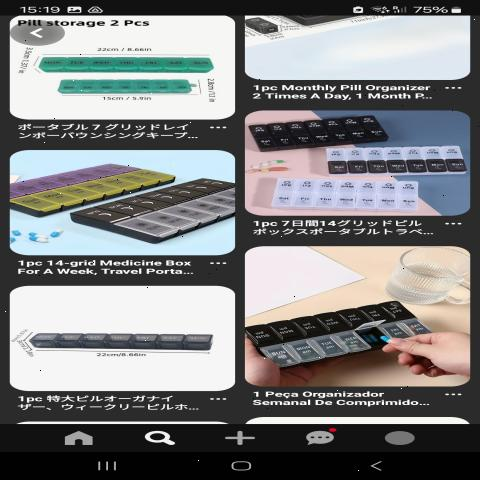PillBox: (251, 300, 436, 376), (89, 168, 241, 240), (27, 322, 219, 358), (248, 110, 394, 152), (326, 142, 476, 173)
